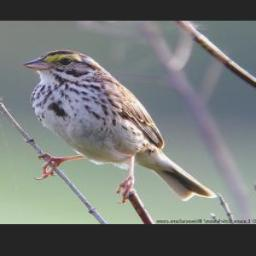Sparrow: (22, 48, 219, 204)
